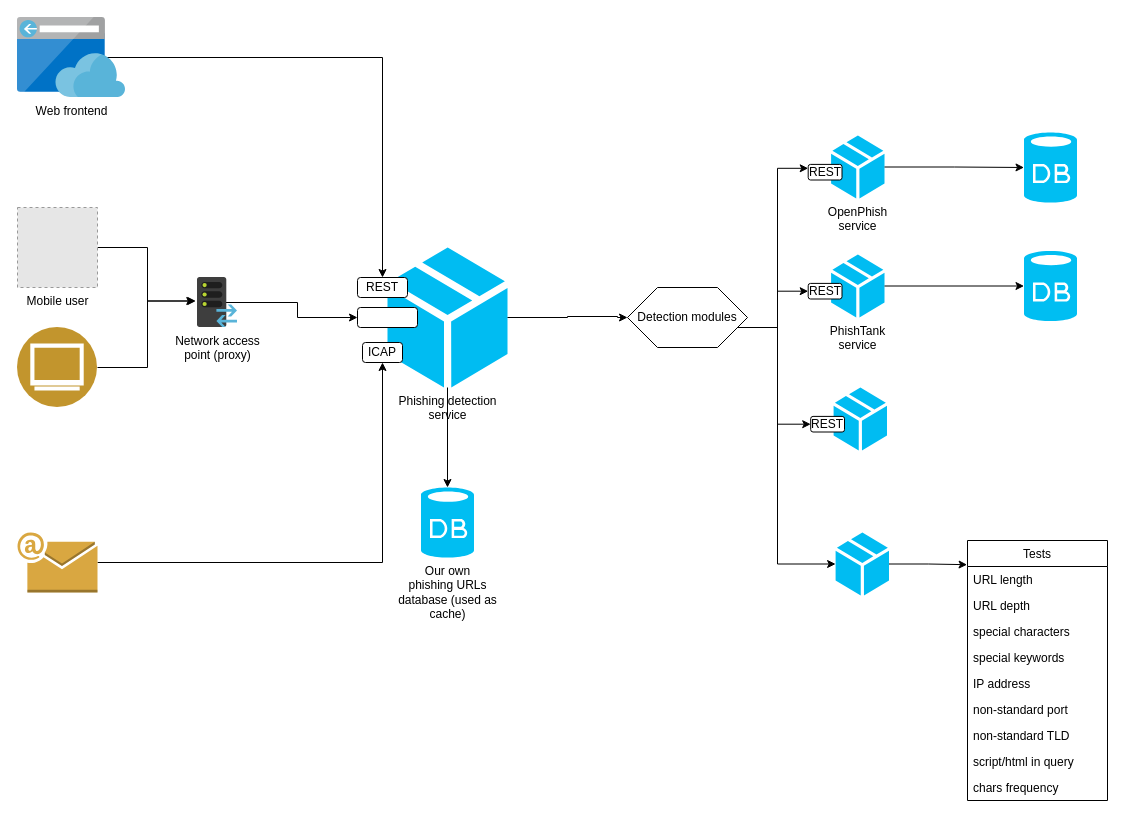
Some shapes in this 1125 by 820 pixel diagram are drawn without their labels. Grey dashed boxes stand in for pictures. Here are the shapes that lost their labels. From the top down, the centre of each, then its label:
At (x=1050, y=167): "OpenPhish table".
At (x=1050, y=285): "PhishTank table".
At (x=387, y=317): "SOCKET".
At (x=57, y=367): "Desktop user".
At (x=859, y=418): "Google Safe Browsing".
At (x=57, y=562): "E-mail client".
At (x=861, y=563): "URL test anomalies".
